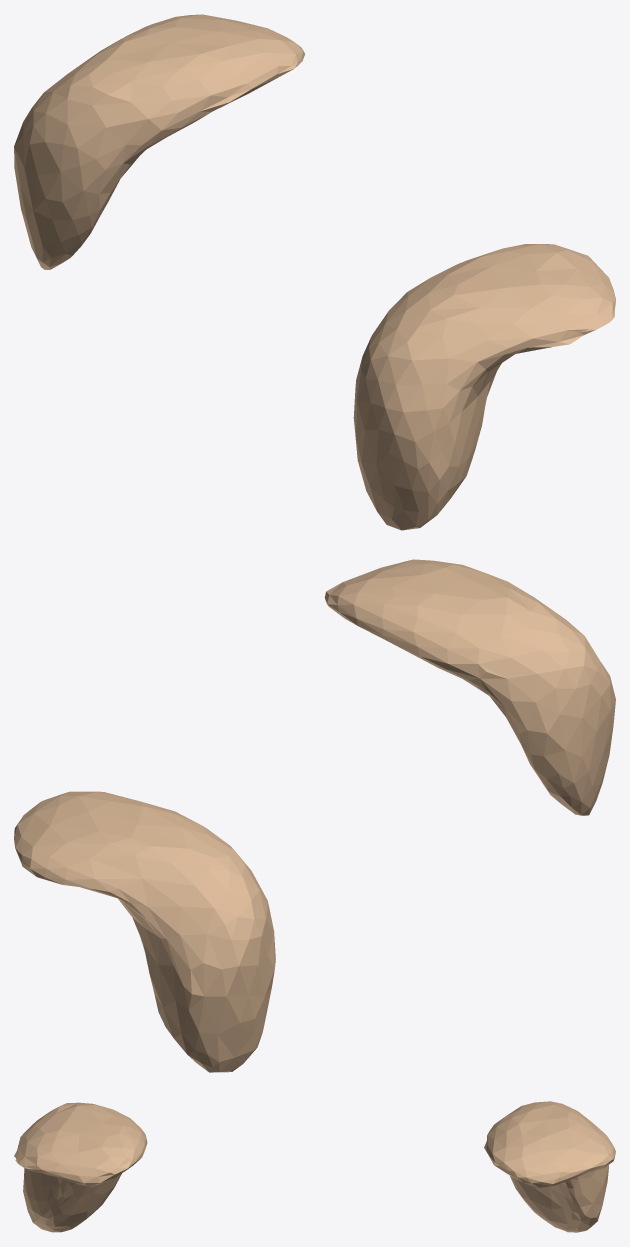
3 views of the same model, one above another, from view 1: azimuth 30°, elevation 25°; view 2: azimuth 150°, elevation 25°; view 3: azimuth 270°, elevation 25° (orthographic). The views are drawn at different scales.
Parts seen in each view (by area): view 1: 122.obj; view 2: 122.obj; view 3: 122.obj.
Part boxes in pixels (x1,y1,x2,y2): 122.obj: (14, 14, 615, 530); 122.obj: (14, 559, 615, 1072); 122.obj: (14, 1101, 615, 1232).
Size of the model in its own units: 1056 by 842 by 3029.
